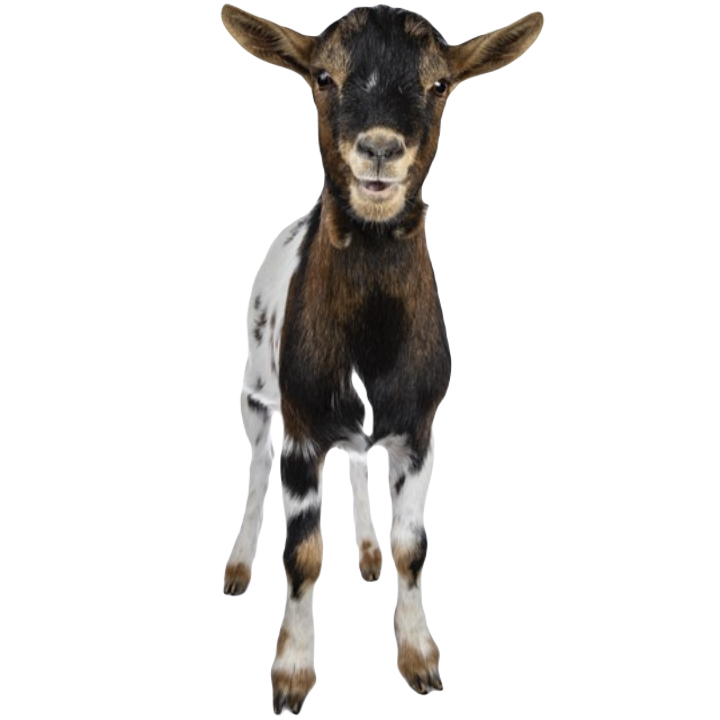Goat: (217, 5, 545, 717)
